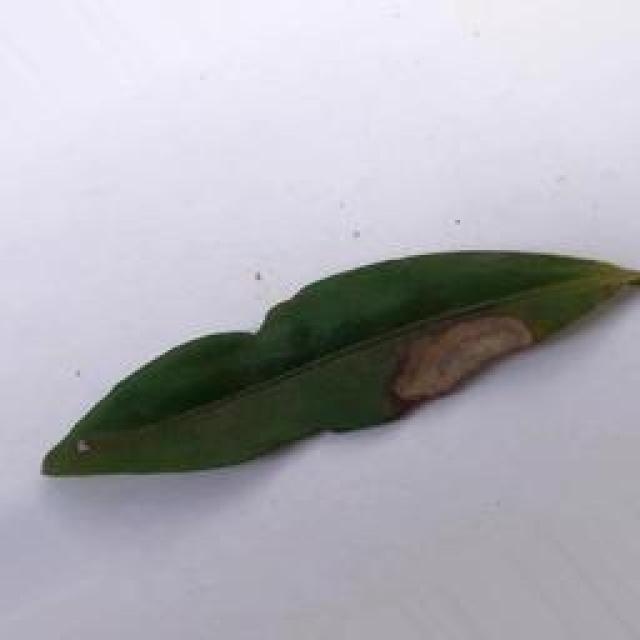Gray Blight: (40, 238, 640, 505)
